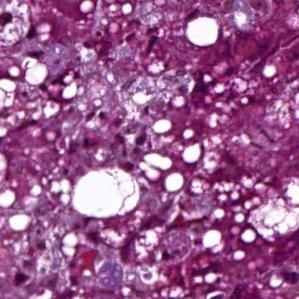ballooning: (71, 165, 142, 220), (246, 175, 299, 245)
